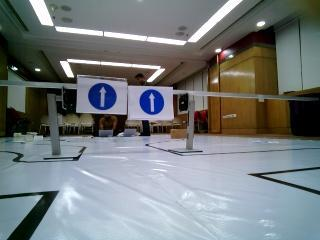straight: (77, 75, 128, 116), (129, 86, 172, 121)
